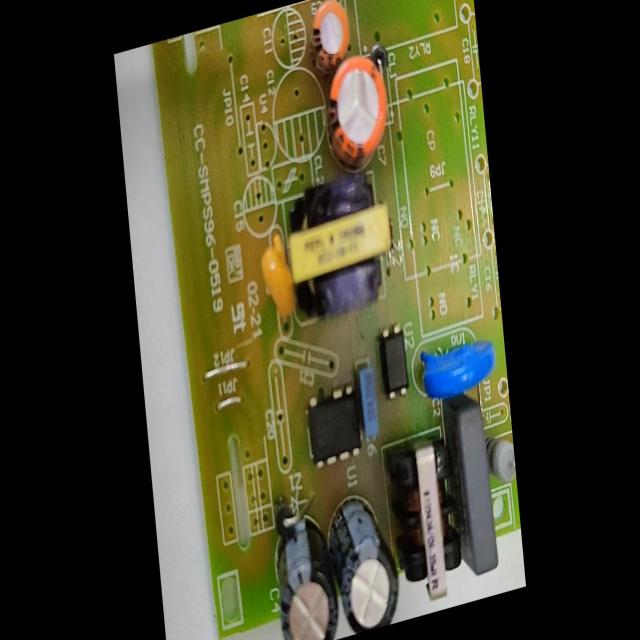Cap1: (318, 41, 396, 176)
Cap2: (301, 0, 355, 75)
Cap3: (324, 481, 404, 639)
Cap4: (268, 497, 342, 639)
MOSFET: (305, 373, 363, 475)
Mov: (409, 319, 498, 410)
Resistor: (484, 426, 516, 491)
Transformer: (283, 154, 400, 336), (388, 427, 460, 614)
